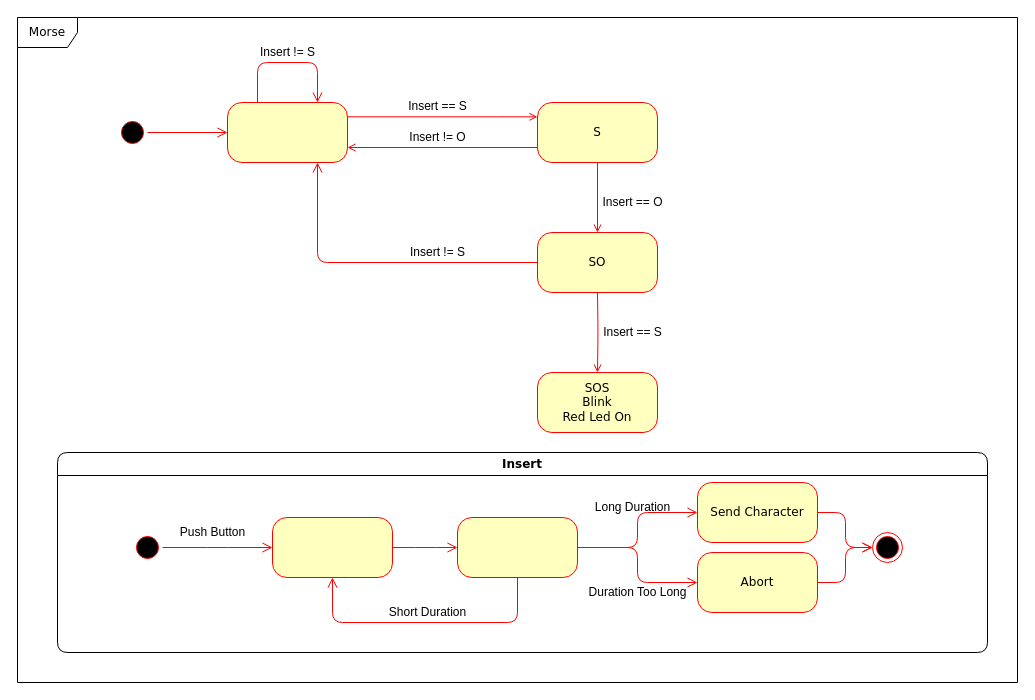
The diagram is 1035 pixels wide and 700 high, and some of its shapes have lost their labels. Each missing label, with the box of its shape:
Green Led Off Wait: (456, 516, 578, 578)
Green Led On: (272, 516, 392, 578)
Wait: (226, 102, 348, 162)
